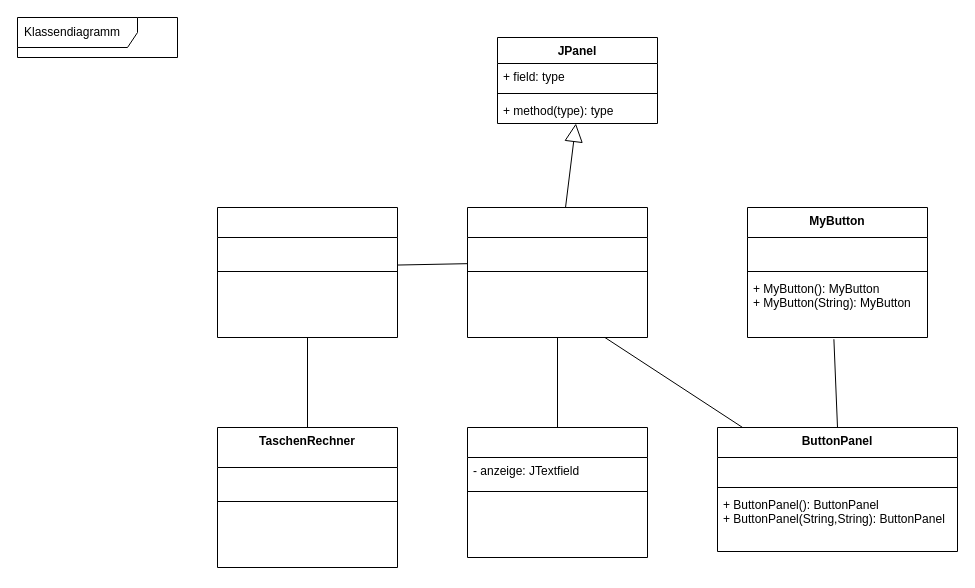
Some shapes in this 975 by 588 pixel diagram are drawn without their labels. Each missing label, with the box of its shape:
DisplayPanel: (466, 426, 648, 558)
MainFrame: (216, 206, 398, 338)
MainPanel: (466, 206, 648, 338)
